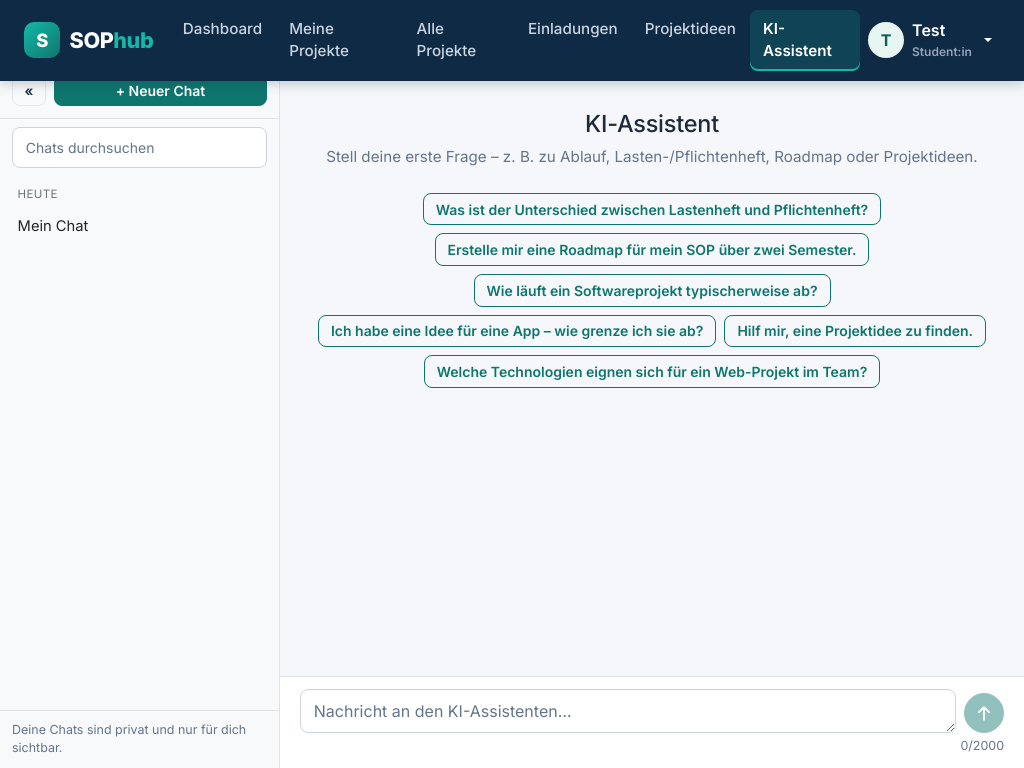
Test: SopAssistent › zeigt vorhandene Chats und klappt die Seitenleiste ein
(page scrolled)
Expected: the text "Mein Chat" is shown, [18,215,88,237]
Click the button named "Seitenleiste einklappen": point(29, 90) [12,75,46,106]
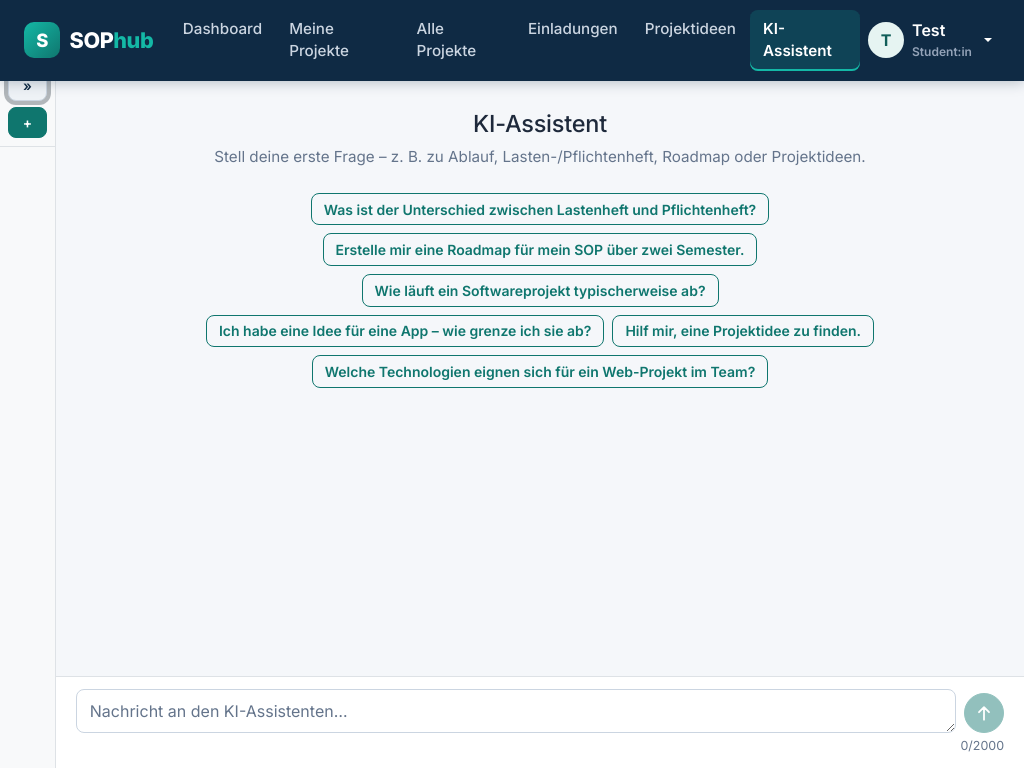
Expected: the element with class "sop-seitenleiste" has class "zu", [0,62,56,767]
